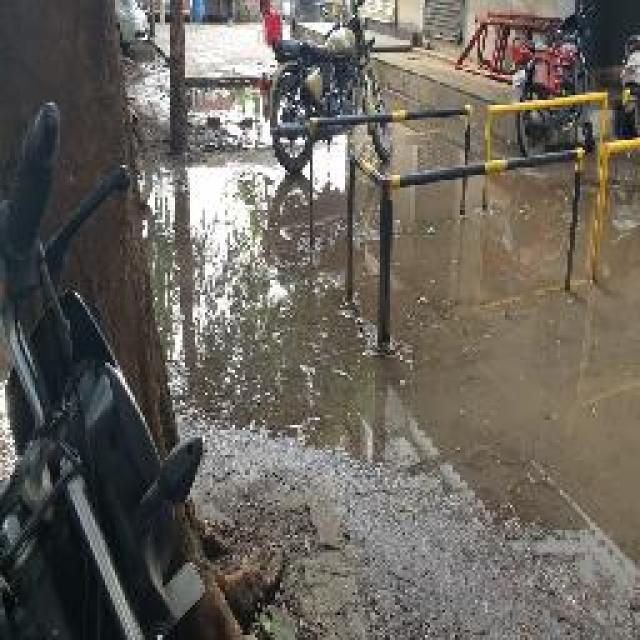waterlogging: (168, 129, 611, 488)
